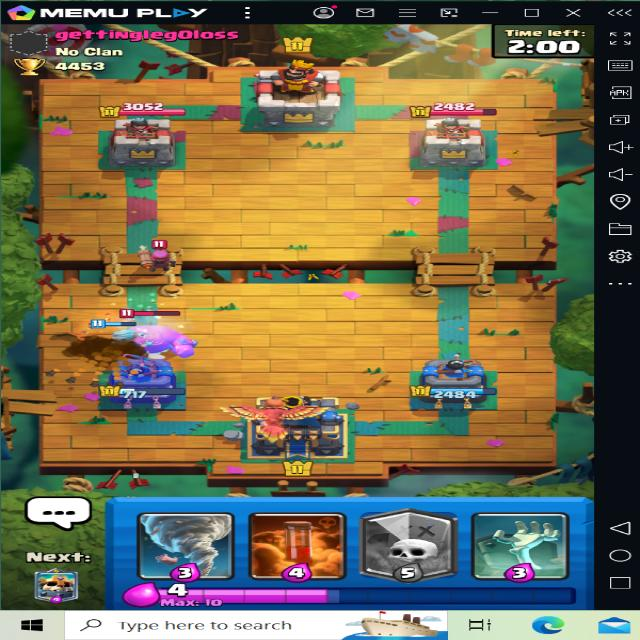electro-golem: (110, 309, 205, 367)
firecracker: (129, 233, 181, 268)
